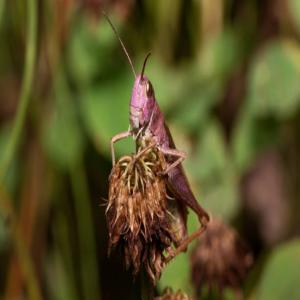locust: (99, 29, 214, 285)
